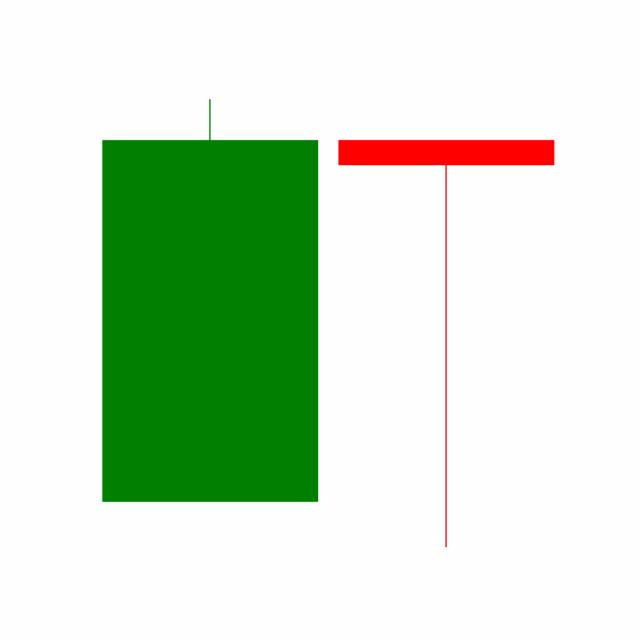Hammer: (327, 134, 565, 551)
